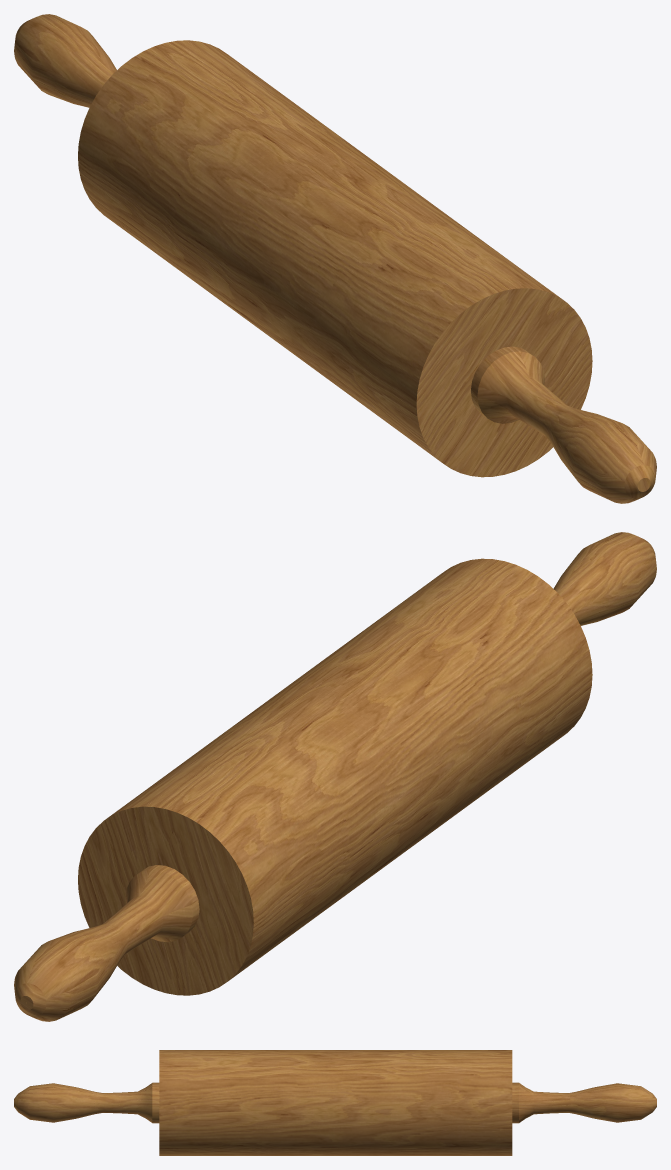
Rendered from rolling_pin.glb.
3 views of the same model, one above another, from view 1: azimuth 30°, elevation 25°; view 2: azimuth 150°, elevation 25°; view 3: azimuth 270°, elevation 25° (orthographic). The views are drawn at different scales.
Visible parts, largest first — view 1: Object_2; view 2: Object_2; view 3: Object_2.
Boxes of the visible parts, left/top/right/bottom form: Object_2: left=14, top=14, right=656, bottom=503; Object_2: left=14, top=532, right=656, bottom=1021; Object_2: left=14, top=1050, right=656, bottom=1155.
Size of the model in its own units: 60 by 60 by 365.
Materials: 1 (1 with a texture image).
